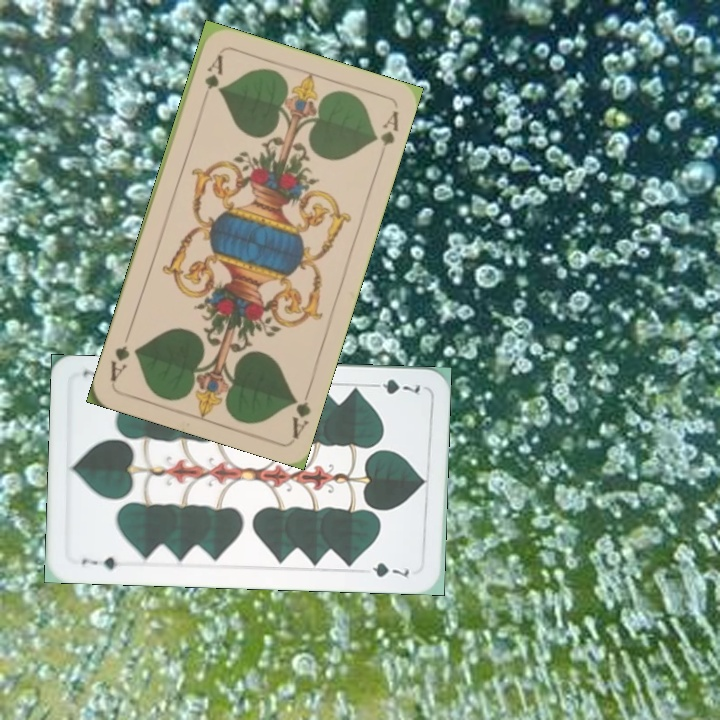G7: (365, 375, 424, 398), (78, 553, 129, 572)
GA: (286, 382, 315, 441), (200, 50, 226, 92)
